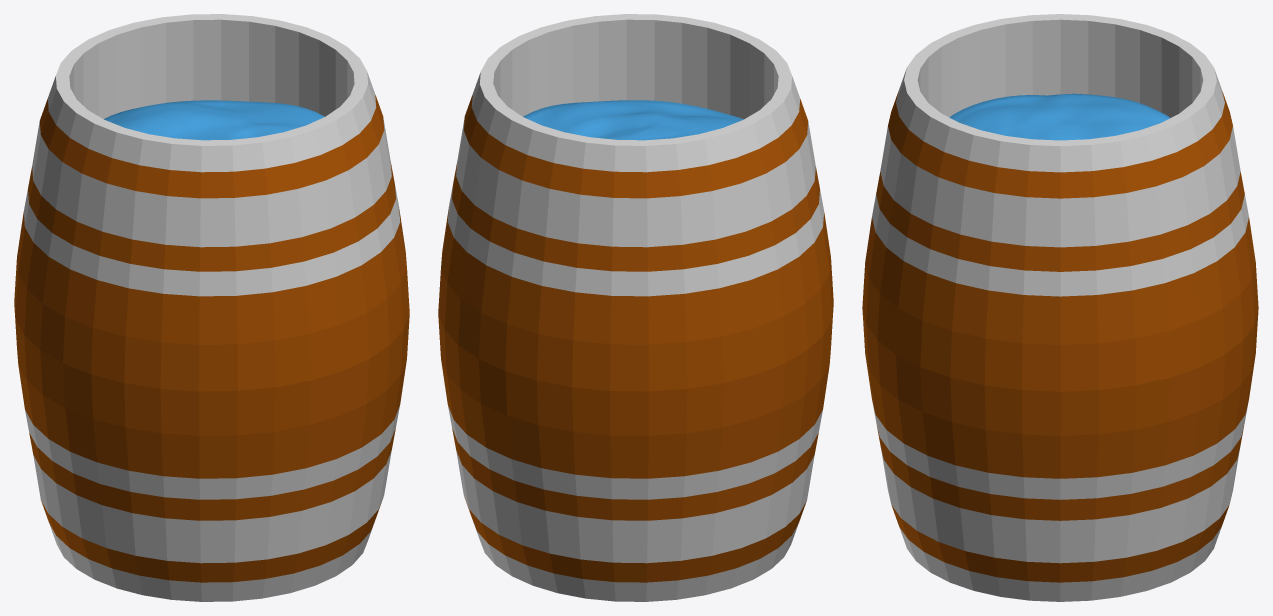
The model's file is filled_barrel.fbx.
3 views of the same model, side by side, from view 1: azimuth 30°, elevation 25°; view 2: azimuth 150°, elevation 25°; view 3: azimuth 270°, elevation 25° (orthographic).
Visible parts, largest first — view 1: Cylinder, Cylinder.001; view 2: Cylinder, Cylinder.001; view 3: Cylinder, Cylinder.001.
Part boxes in pixels (bbox=[...]): Cylinder: bbox=[14, 14, 409, 601]; Cylinder.001: bbox=[104, 100, 324, 140]; Cylinder: bbox=[438, 14, 833, 601]; Cylinder.001: bbox=[523, 100, 743, 140]; Cylinder: bbox=[862, 14, 1258, 601]; Cylinder.001: bbox=[949, 93, 1170, 140].
Bounding box in the file's own units: 236 × 300 × 236.
